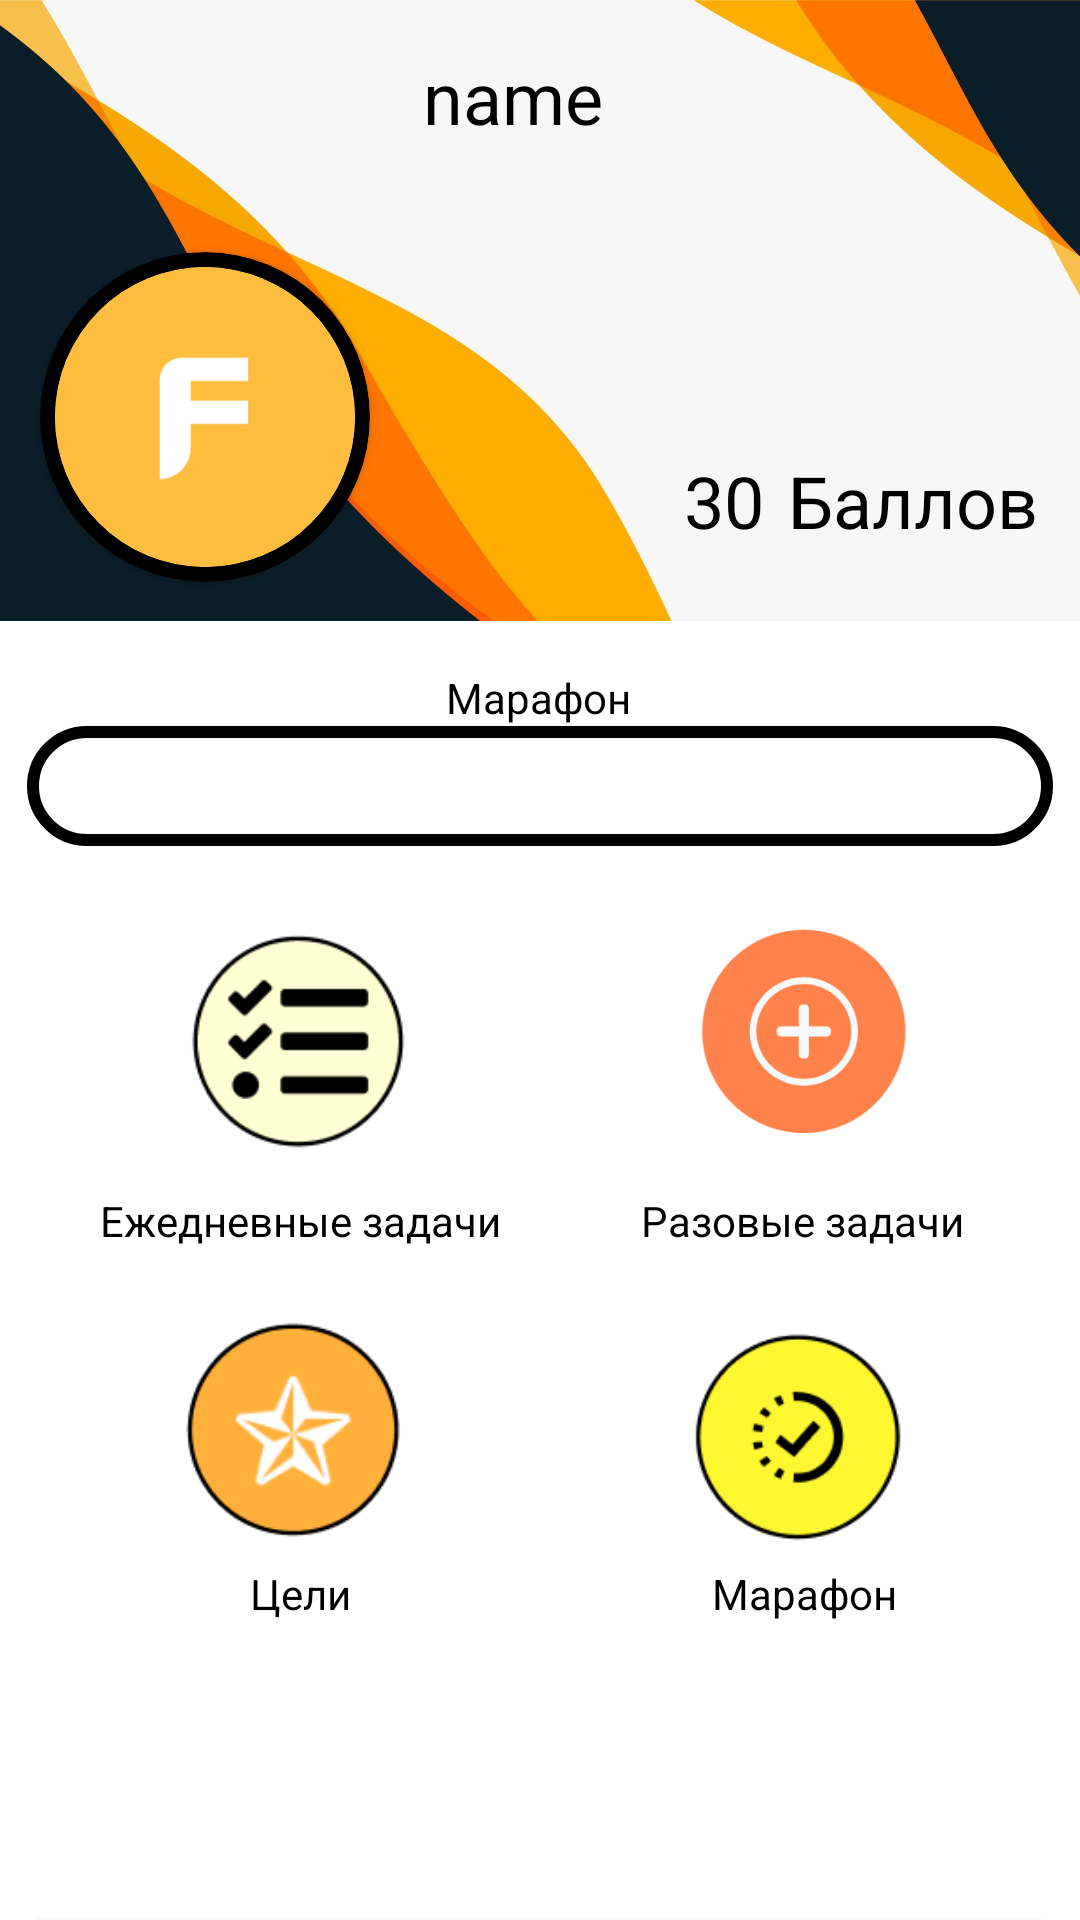

Where icons sit on this 1080 × 1920 app screen, as rect(x1, y1, x2, y2):
plus: rect(702, 929, 906, 1133)
